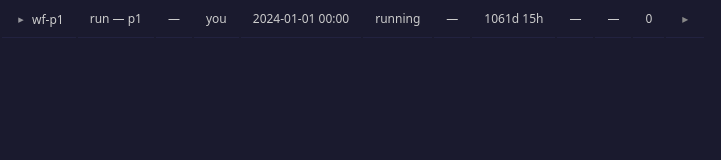
an expander whose level comes back empty renders no child rows and no error
What coordinates should you click on to do the following:
click the button named "Show child runs of run — p1"
I would click on:
 (21, 20)
Its box is [14,14,28,25].
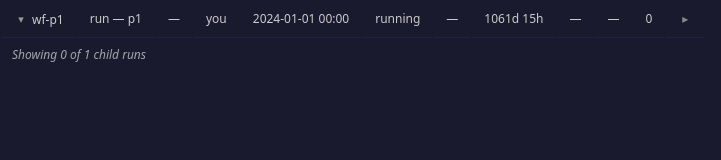
Result: the button named "Hide child runs of run — p1" is shown at [14,14,28,25]
